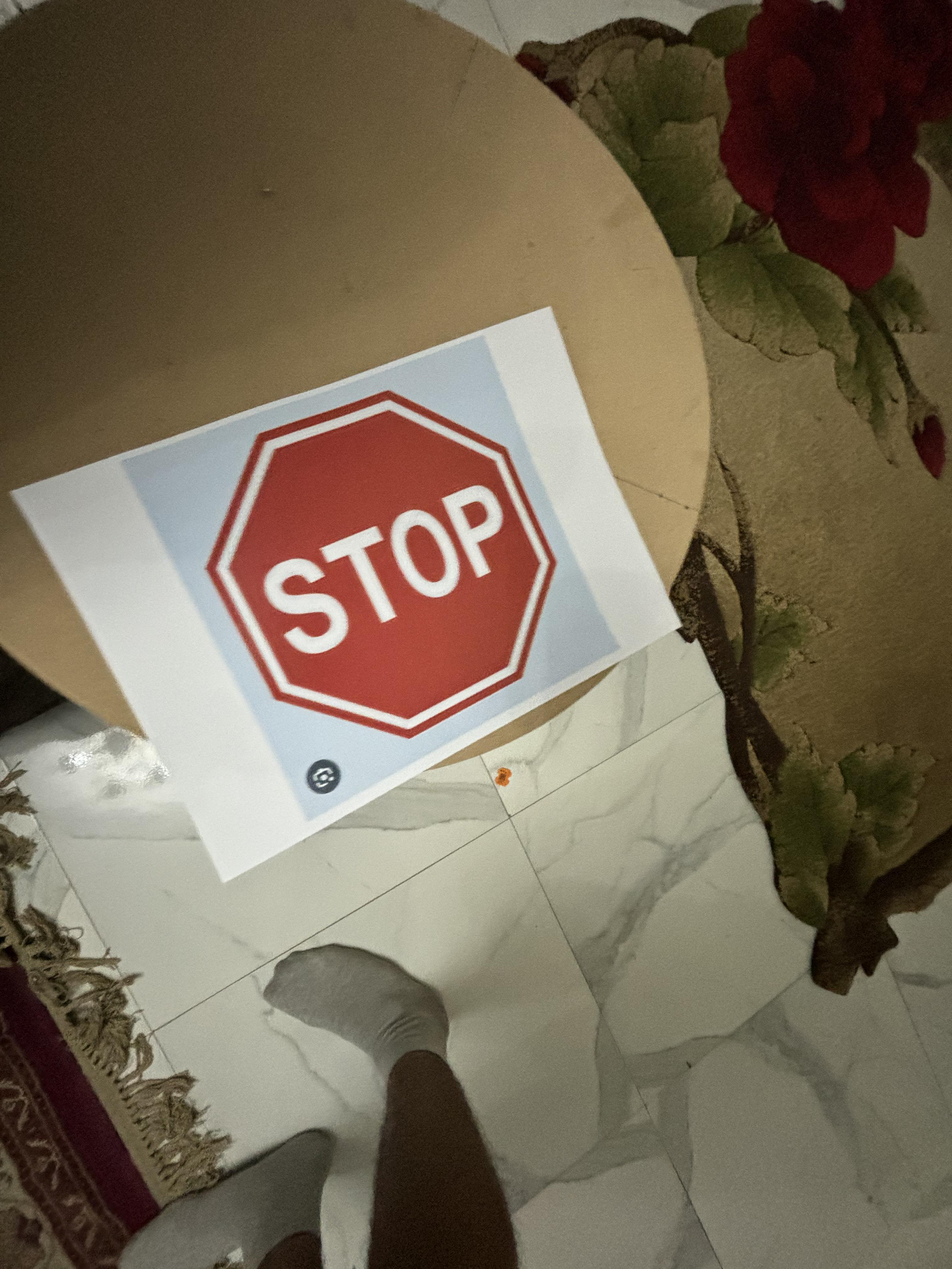Stop: (197, 380, 566, 746)
